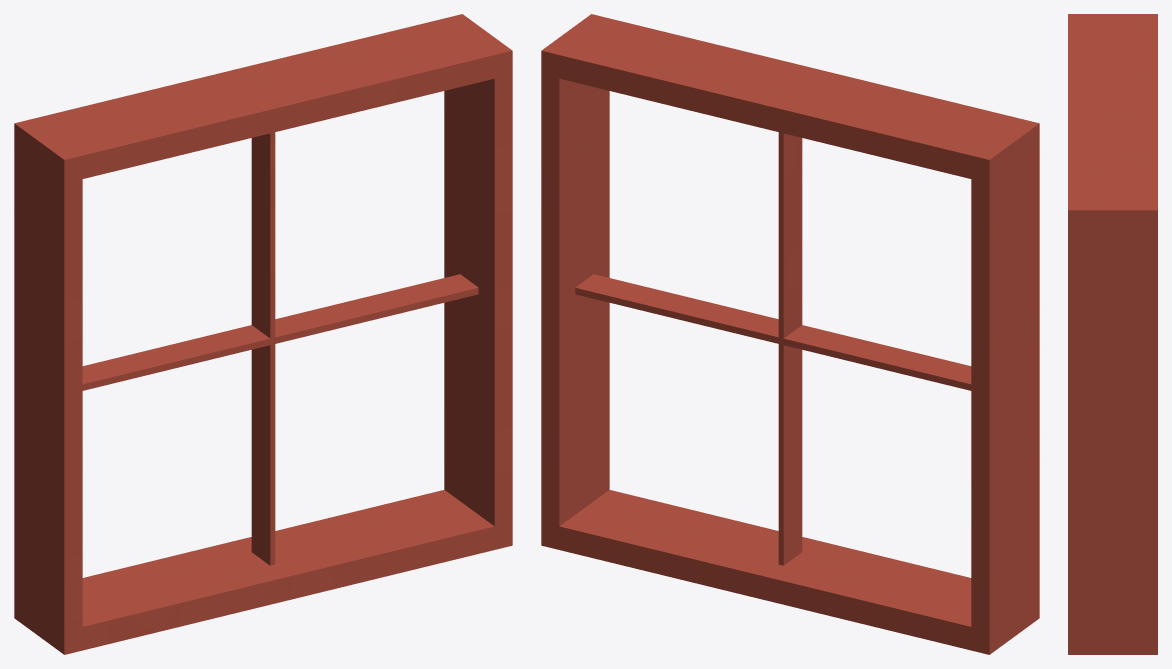
Rendered from Window_05.fbx.
3 views of the same model, side by side, from view 1: azimuth 30°, elevation 25°; view 2: azimuth 150°, elevation 25°; view 3: azimuth 270°, elevation 25° (orthographic). The views are drawn at different scales.
Visible parts, largest first — view 1: Window_05; view 2: Window_05; view 3: Window_05.
Boxes of the visible parts, bbox=[...] form: Window_05: bbox=[14, 14, 512, 654]; Window_05: bbox=[541, 14, 1039, 654]; Window_05: bbox=[1068, 14, 1157, 654].
Bounding box in the file's own units: 1 × 1.06 × 0.1938.
